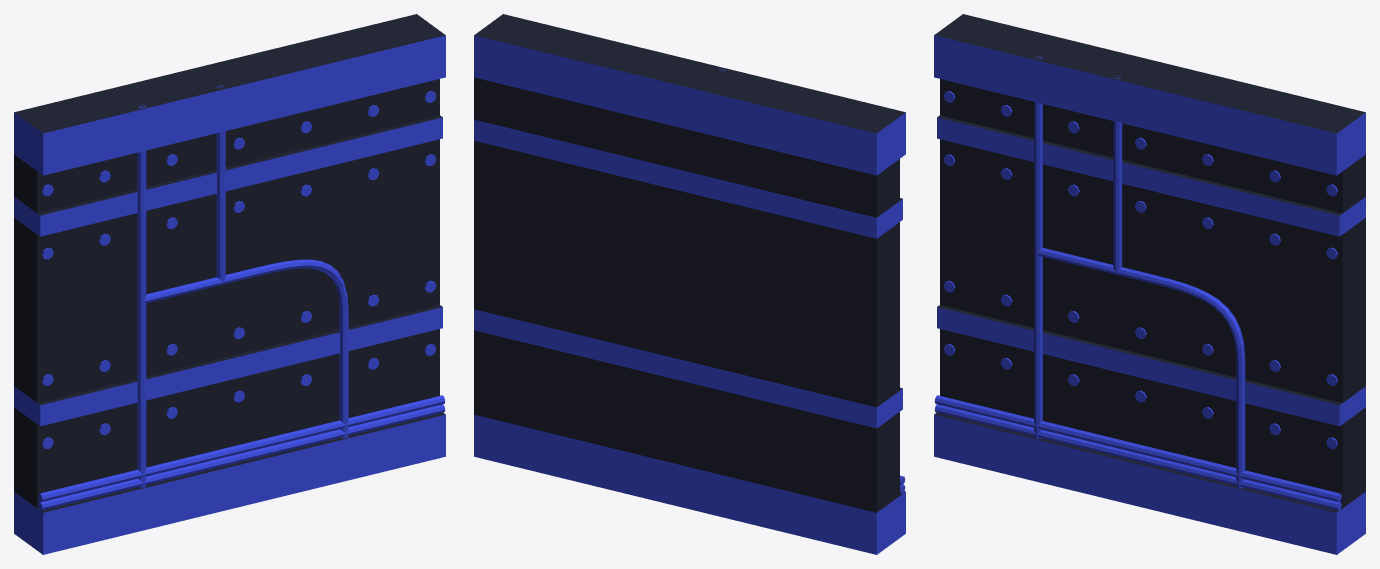
The model's file is Wall_E.fbx.
3 renders of one model, left to right at view 1: azimuth 30°, elevation 25°; view 2: azimuth 150°, elevation 25°; view 3: azimuth 330°, elevation 25°, orthographic.
Parts seen in each view (by area): view 1: Wall_E; view 2: Wall_E; view 3: Wall_E.
Part boxes in pixels (<box>): Wall_E: <box>14,14,445,554</box>; Wall_E: <box>474,14,905,554</box>; Wall_E: <box>934,14,1365,554</box>.
Size of the model in its own units: 200 by 200 by 25.
